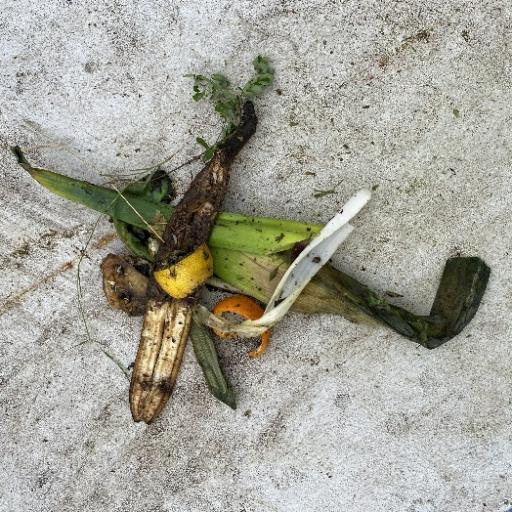Waste: (12, 55, 490, 425)
